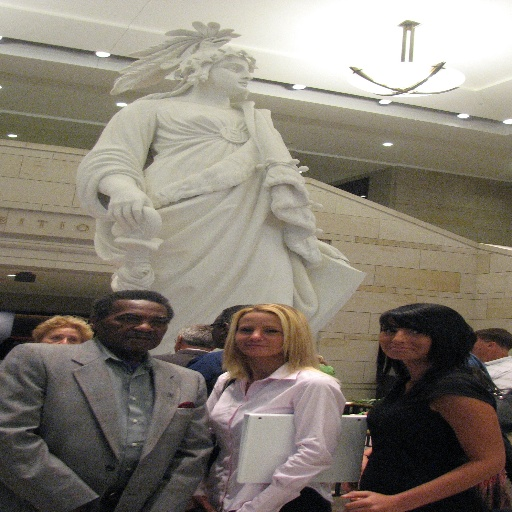hand: (102, 186, 156, 233), (338, 488, 395, 511), (194, 494, 219, 511)
